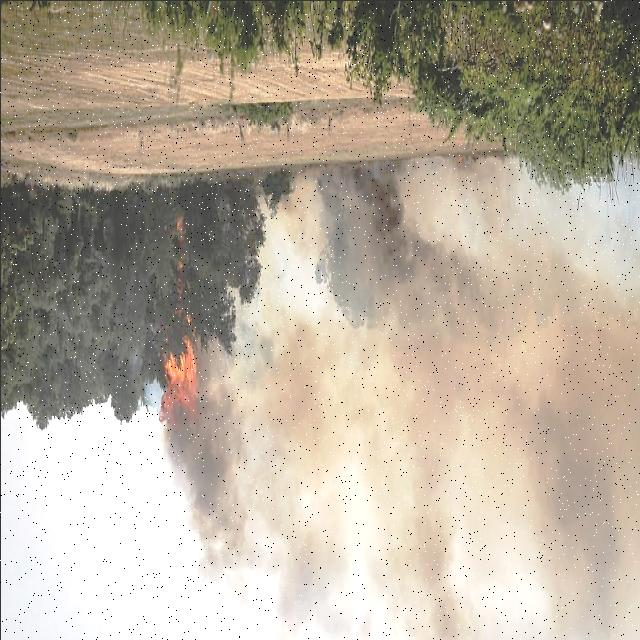api: (160, 332, 198, 432)
asap: (311, 159, 640, 640), (153, 332, 640, 640)
